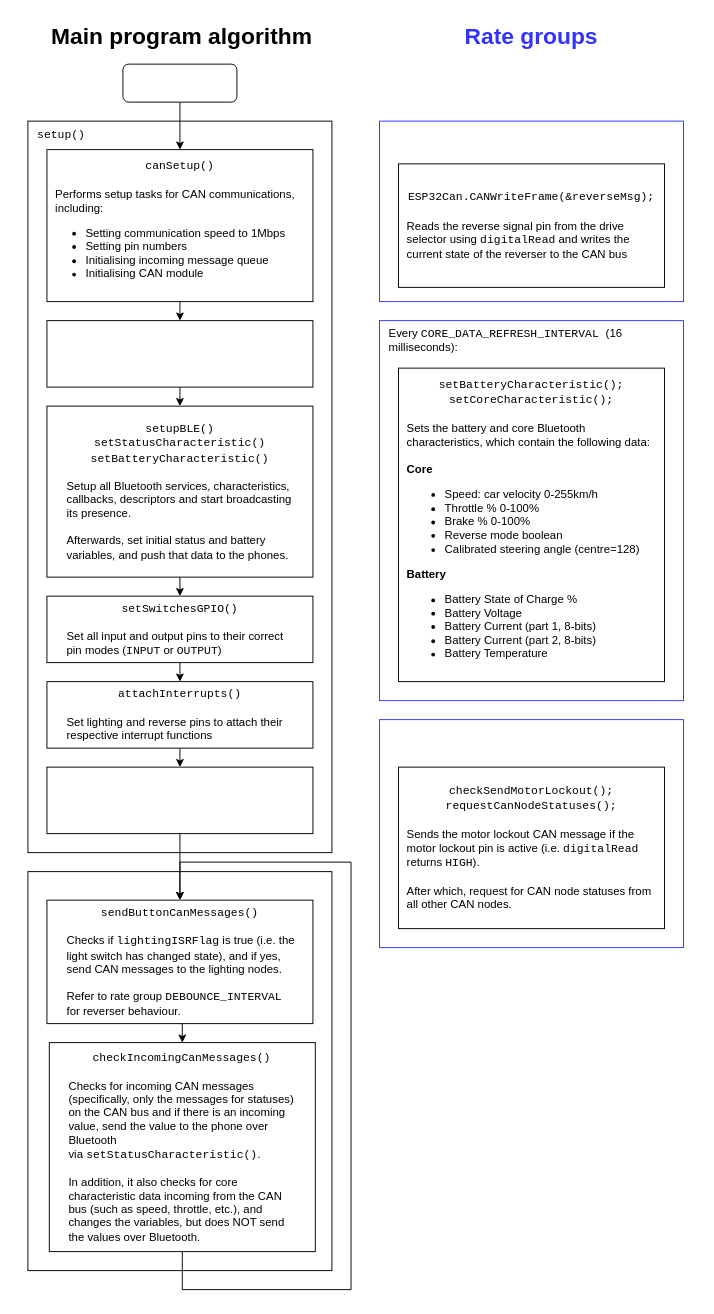
Some shapes in this 714 by 1314 pixel diagram are drawn without their labels. The shapes that lost their labels are listed below. From the top down, each one's box as (x1, y1, x2, y2) in pixels, then its label:
(122, 63, 237, 102): Start/Reset
(379, 120, 684, 302): Every DEBOUNCE_INTERVAL (100 milliseconds) AND if reverseISRFlag is true :
(46, 320, 313, 387): initMessageData() Set all CAN messages to their nominal initial values
(46, 766, 313, 834): requestCanNodeStatuses() Request statuses from all CAN nodes
(379, 719, 684, 948): Every MOTOR_LOCK_MSG_REFRESH_INTERVAL (1000 milliseconds):
(27, 871, 332, 1271): loop()
